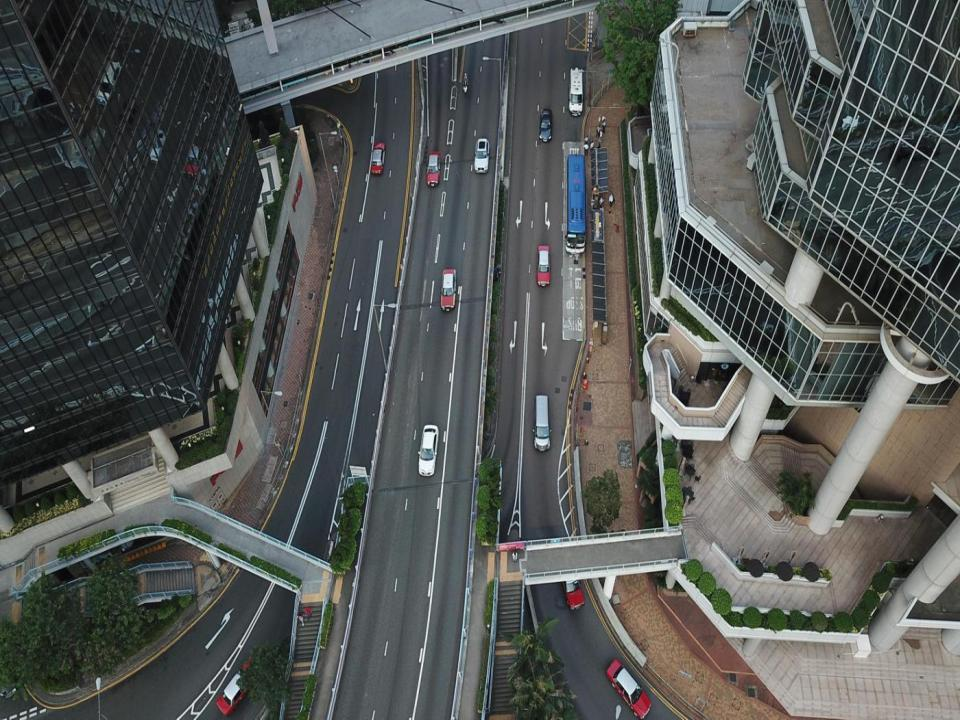car: (215, 648, 260, 715), (606, 660, 652, 715), (556, 560, 586, 610), (416, 424, 440, 475), (439, 267, 456, 310), (536, 244, 552, 287), (474, 136, 490, 174), (370, 142, 387, 176), (426, 150, 440, 186), (538, 107, 552, 142)
van: (531, 395, 555, 450), (568, 67, 584, 117)
